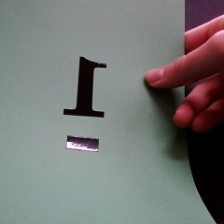green1: (61, 52, 113, 160)
